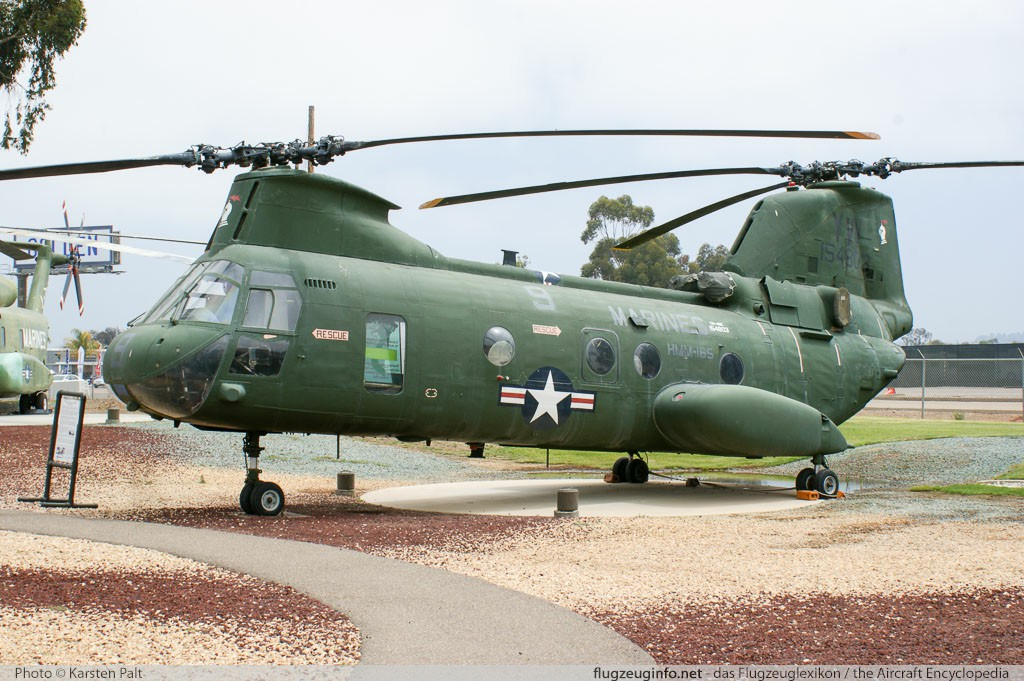chinook: (56, 125, 1024, 516)
